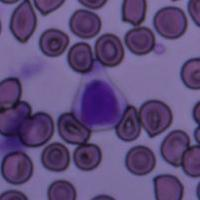L: (71, 74, 129, 131)
